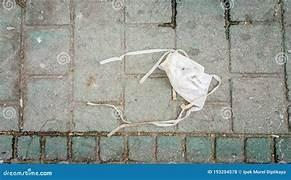Mask: (100, 49, 220, 135)
